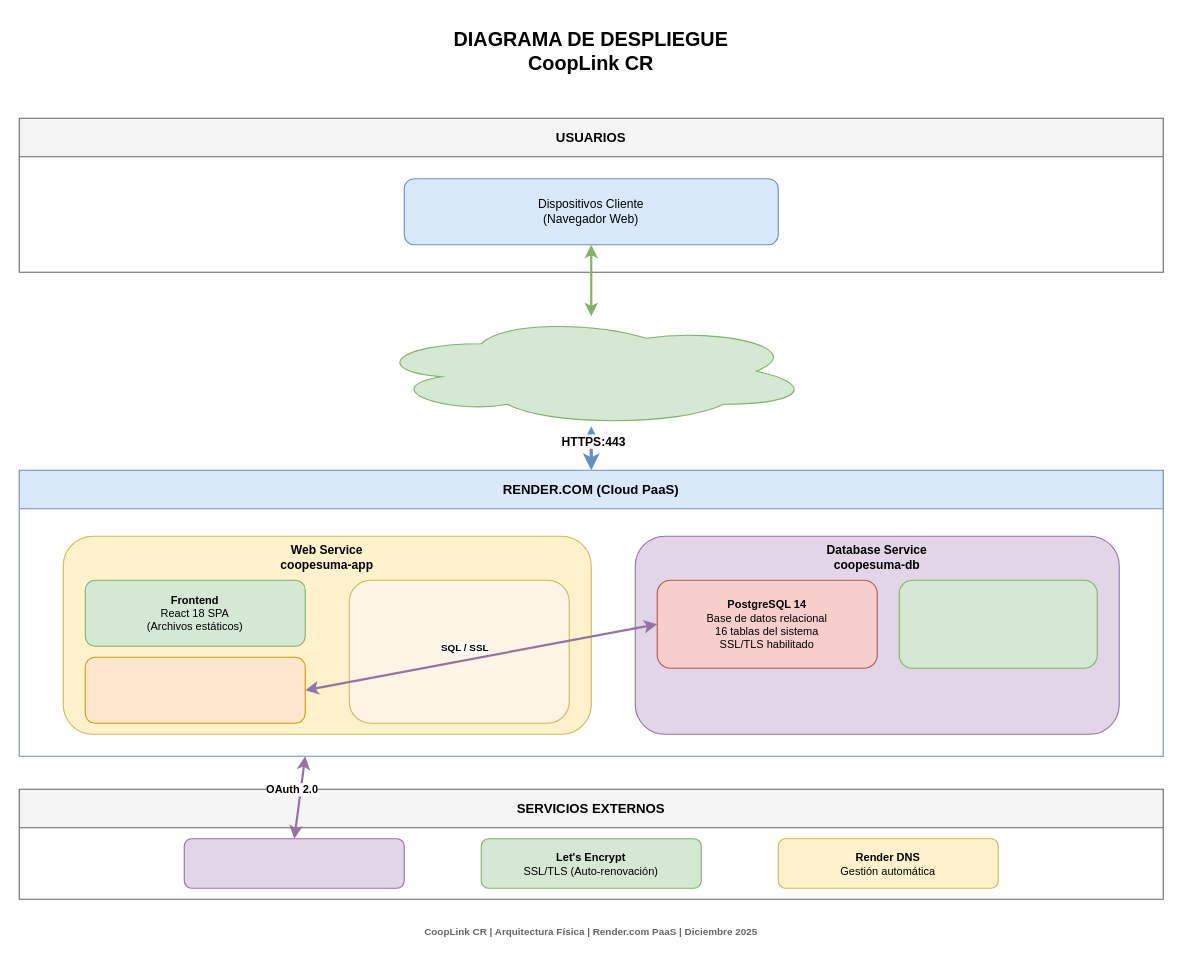
This 1183x961 diagram has some shape labels left out. The shapes that lost their labels are listed below. From the top down, each one's centre as x and y in pixels, then its label:
(x=590, y=370): INTERNET HTTPS / TLS 1.3
(x=997, y=623): Backups Automáticos diarios Retención: 7 días
(x=458, y=651): Storage Archivos/Logs (Disco persistente)
(x=194, y=689): Backend Node.js 18 + Express API REST
(x=293, y=863): Microsoft 365 OAuth 2.0
